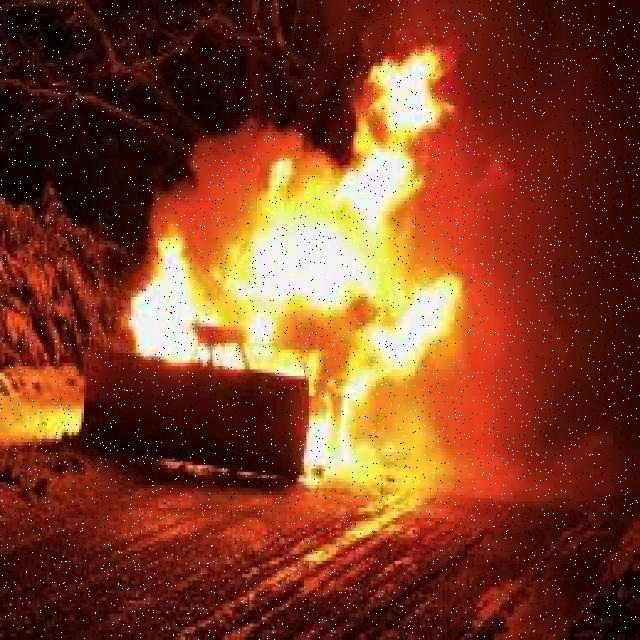fire: (129, 70, 445, 409)
